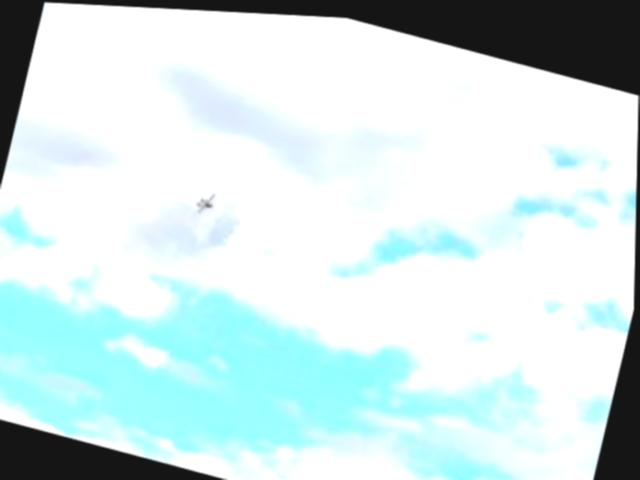uav: (190, 181, 222, 223)
